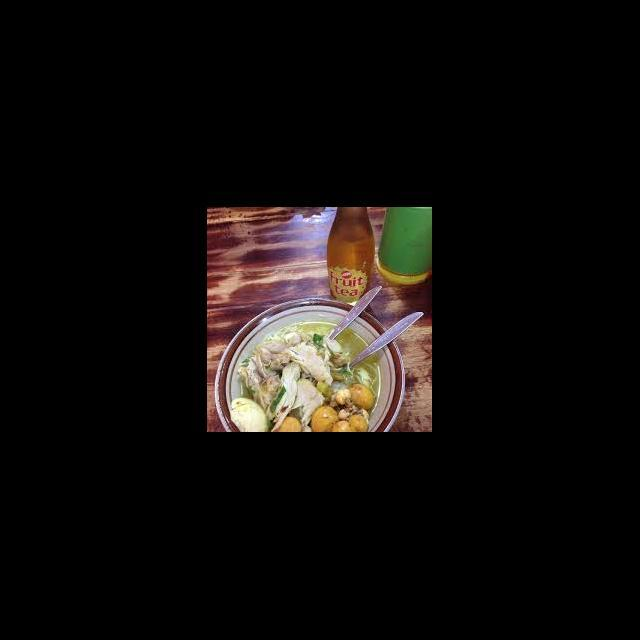Soto: (234, 318, 381, 452)
